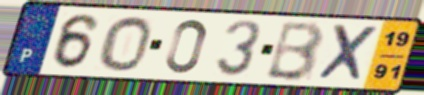0: (164, 18, 209, 75)
3: (213, 19, 263, 79)
6: (50, 12, 101, 71)
B: (262, 20, 327, 83)
O: (97, 14, 154, 73)
X: (314, 23, 382, 84)
